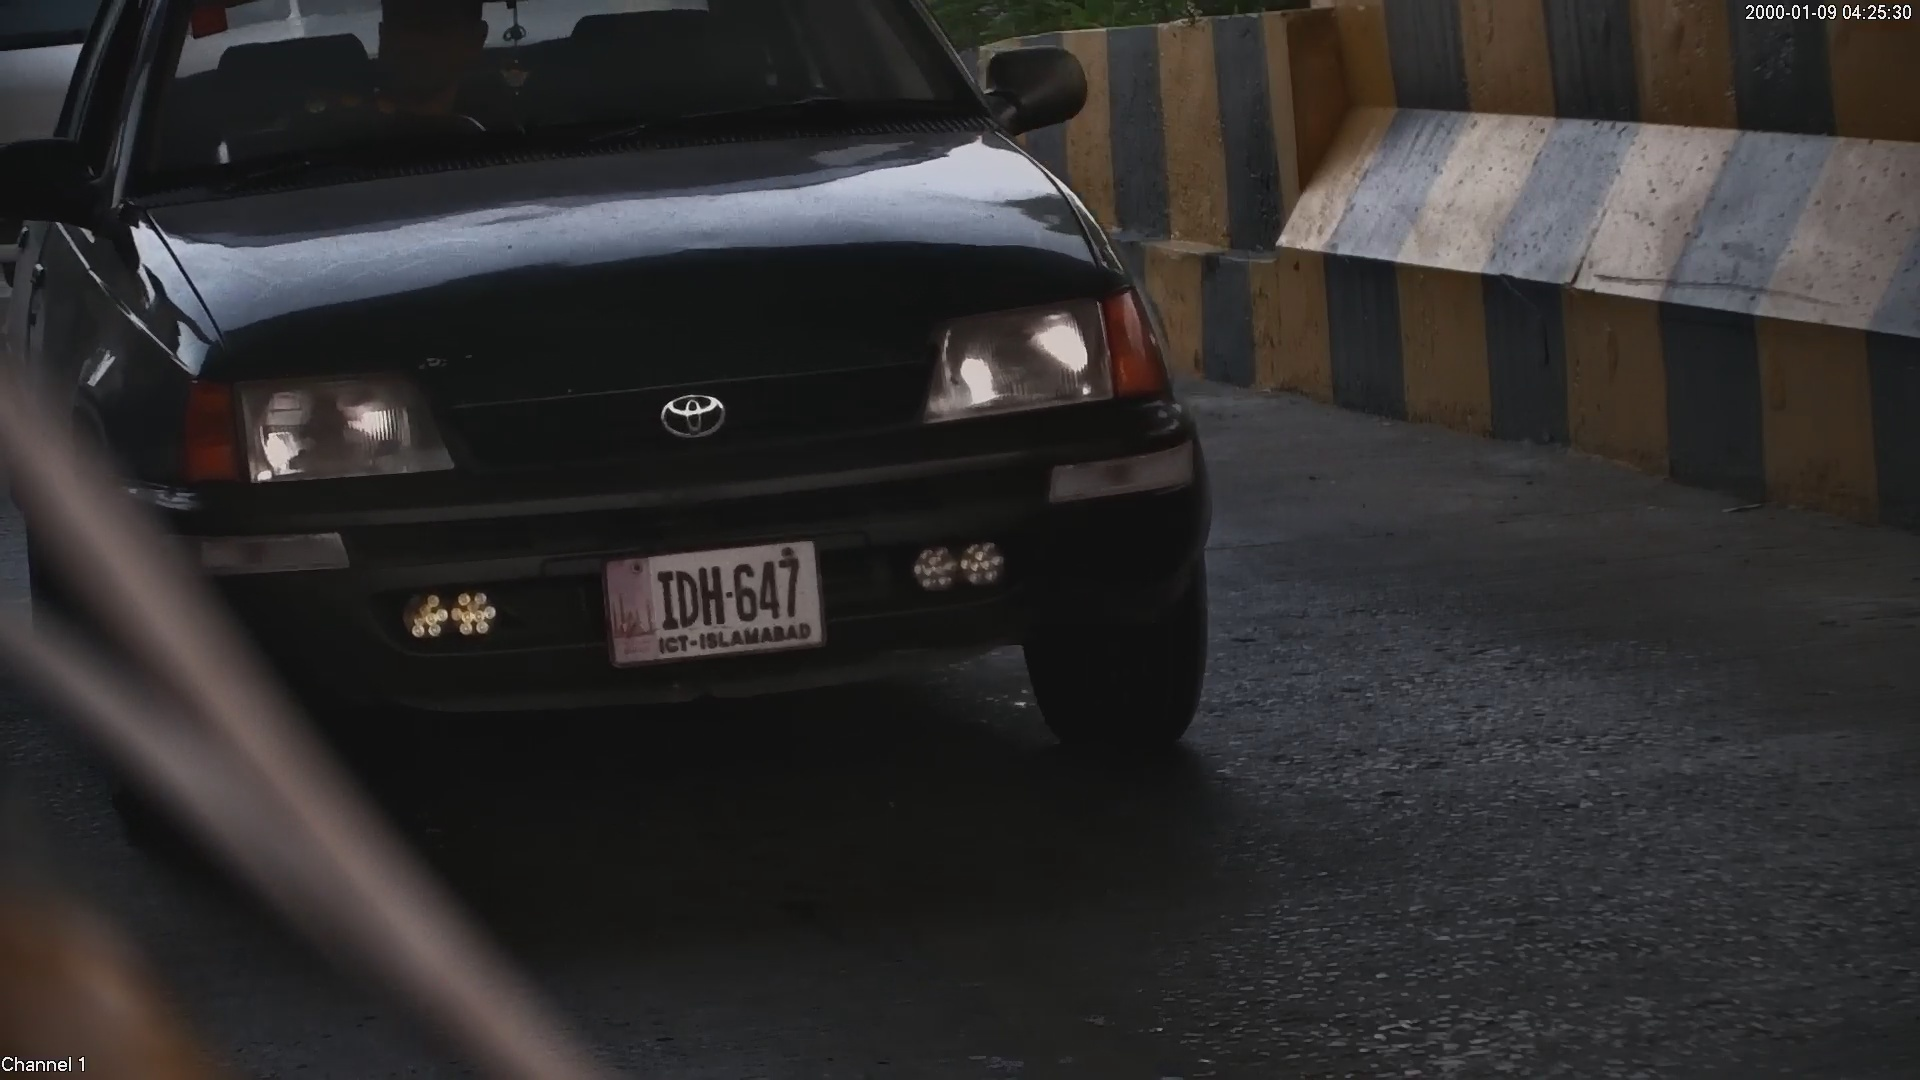Number_Plate: (600, 538, 845, 666)
Undefined: (176, 355, 441, 481), (934, 307, 1154, 418), (650, 392, 734, 442)
